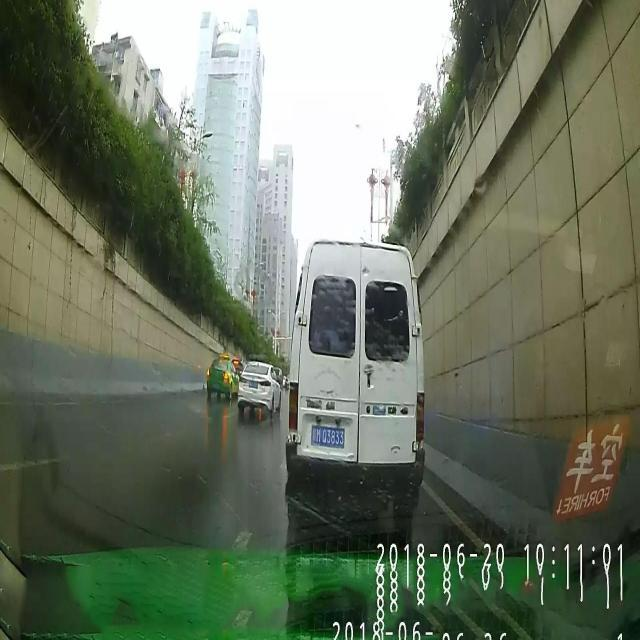car: (283, 240, 423, 522), (237, 360, 281, 418), (206, 354, 238, 398)
